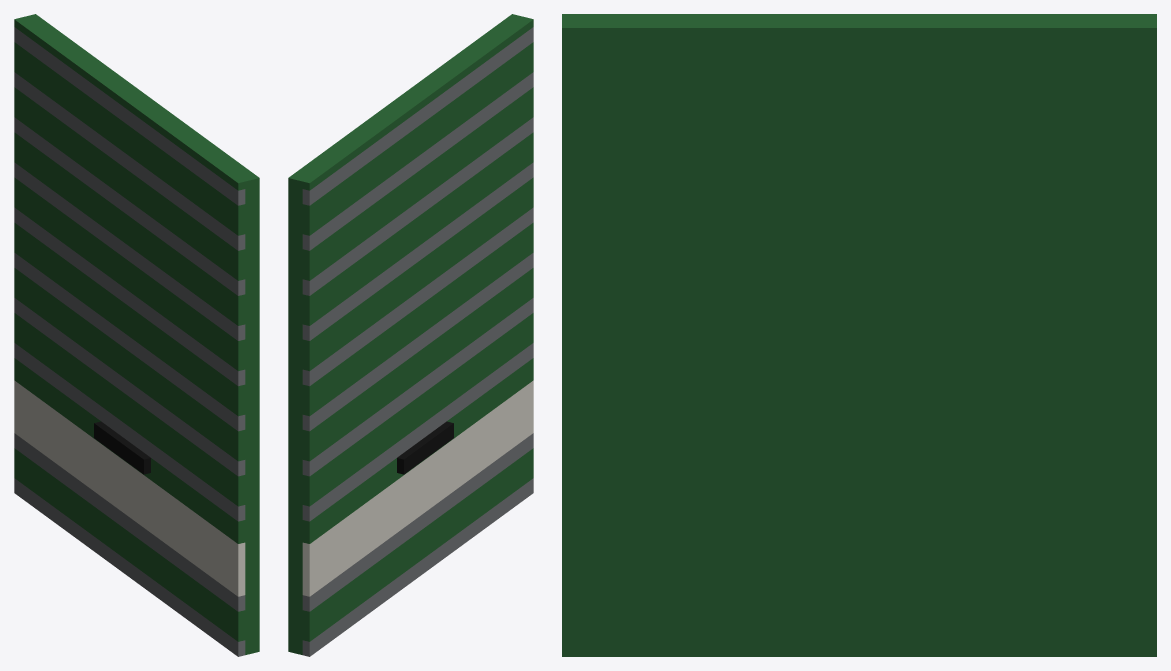
Rendered from step_van_rear_door.glb.
The picture shows the model from 3 angles, left to right: view 1: azimuth 30°, elevation 25°; view 2: azimuth 150°, elevation 25°; view 3: azimuth 270°, elevation 25°; orthographic projection. The views are drawn at different scales.
Visible parts, largest first — view 1: body:compound; view 2: body:compound; view 3: body:compound.
Boxes of the visible parts, x1,y1,x2,y2 form: body:compound: (14,14,259,656); body:compound: (288,14,533,656); body:compound: (562,14,1156,656).
Size of the model in its own units: 0.125 by 1.97 by 1.69.
